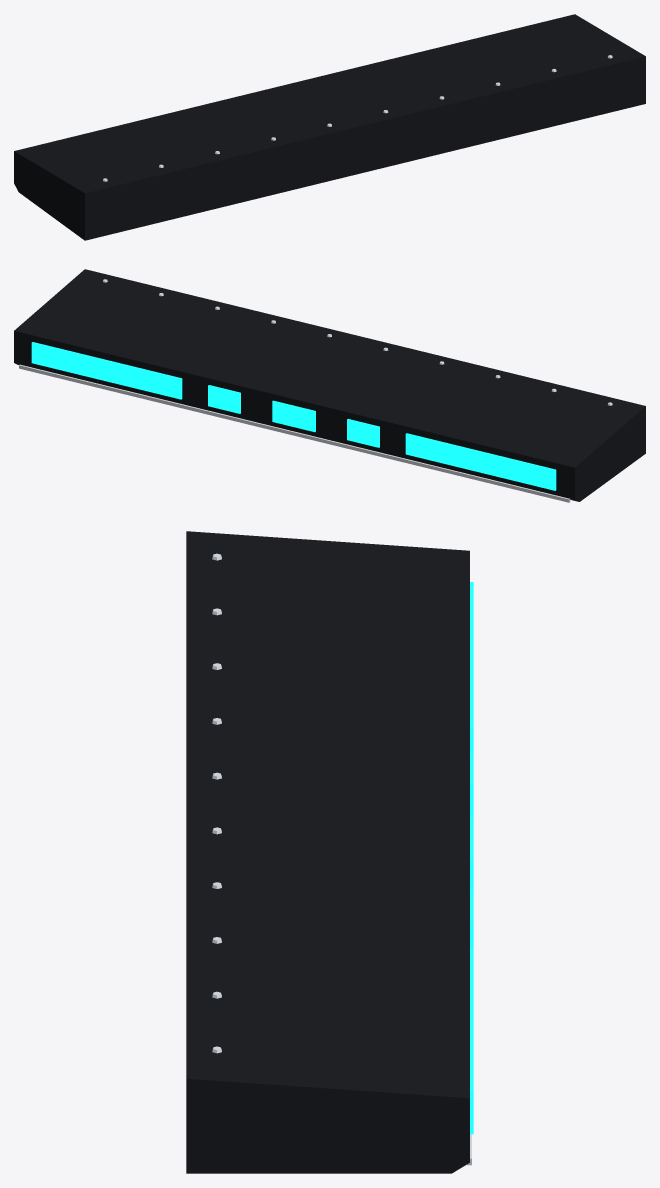
The model's file is visor_morse.glb.
3 views of the same model, one above another, from view 1: azimuth 30°, elevation 25°; view 2: azimuth 150°, elevation 25°; view 3: azimuth 270°, elevation 25° (orthographic). The views are drawn at different scales.
Visible parts, largest first — view 1: visor_morse_deco_body; view 2: visor_morse_deco_body, visor_morse_deco_neon, visor_morse_chrome; view 3: visor_morse_deco_body, visor_morse_deco_neon.
Part boxes in pixels (bbox=[...]): visor_morse_deco_body: bbox=[14, 14, 645, 240]; visor_morse_deco_body: bbox=[14, 269, 645, 501]; visor_morse_deco_neon: bbox=[31, 342, 556, 490]; visor_morse_chrome: bbox=[19, 279, 612, 502]; visor_morse_deco_body: bbox=[186, 531, 469, 1173]; visor_morse_deco_neon: bbox=[470, 582, 473, 1134].
Bounding box in the file's own units: 2.1 × 0.1755 × 0.466.
